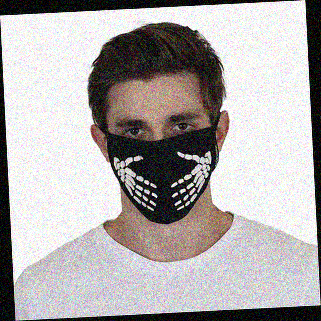with_mask: (107, 103, 220, 225)
